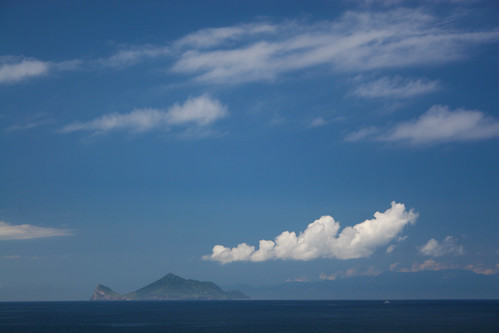turtleIslandLeft: (90, 273, 253, 303)
